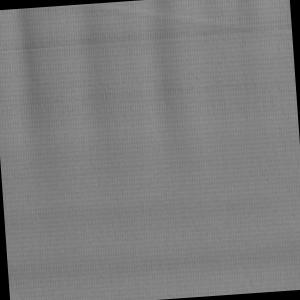Wrinkle: (1, 7, 77, 172), (73, 1, 290, 55)
